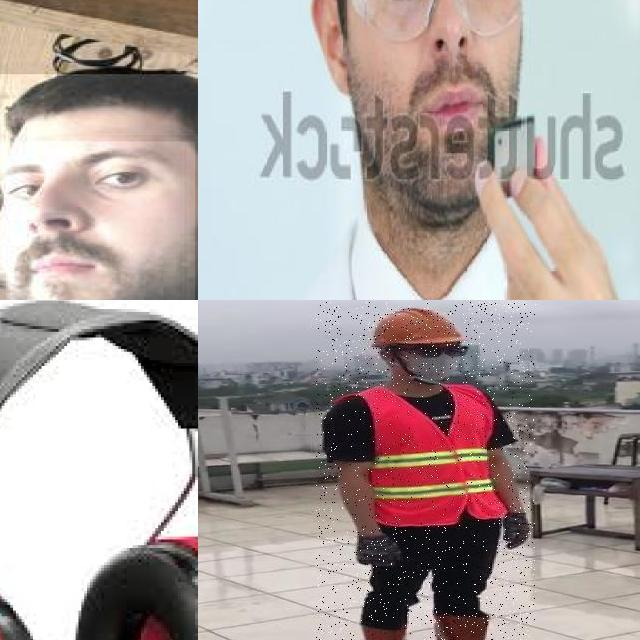Ear-protection: (0, 300, 198, 640)
No_Ear-Protection: (298, 0, 367, 100)
boots: (431, 611, 531, 640), (357, 622, 435, 640)
face_nomask: (0, 141, 195, 300), (373, 0, 516, 144)
glasses: (328, 0, 531, 46)
hand_noglove: (465, 141, 640, 300)
head_helmet: (364, 305, 464, 351)
head_nohelmet: (0, 63, 197, 138)
person: (198, 0, 640, 300), (316, 301, 536, 640), (0, 74, 198, 300)
vest: (341, 386, 509, 528)
